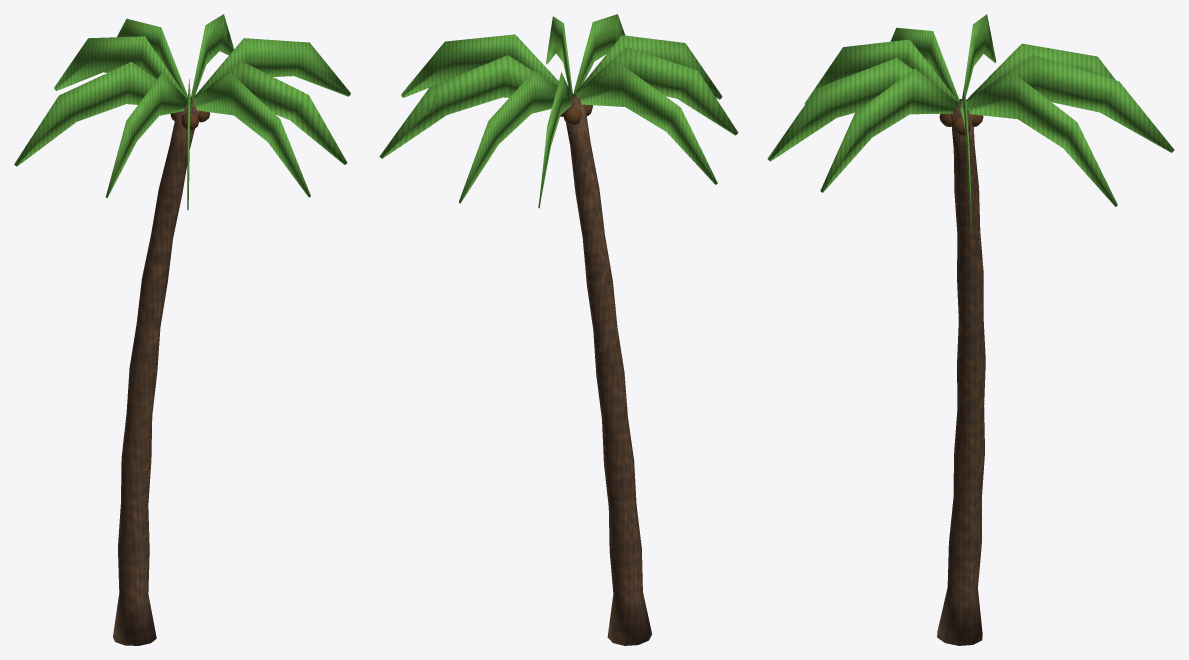
The model's file is Tree_Palm_Tall.fbx.
The picture shows the model from 3 angles, left to right: view 1: azimuth 30°, elevation 25°; view 2: azimuth 150°, elevation 25°; view 3: azimuth 270°, elevation 25°; orthographic projection. The views are drawn at different scales.
Parts seen in each view (by area): view 1: Tree_Palm_Tall.001; view 2: Tree_Palm_Tall.001; view 3: Tree_Palm_Tall.001.
Part boxes in pixels (x1,y1,x2,y2): Tree_Palm_Tall.001: [14, 14, 350, 645]; Tree_Palm_Tall.001: [379, 14, 738, 645]; Tree_Palm_Tall.001: [767, 14, 1174, 645].
Size of the model in its own units: 5.23 by 8.79 by 5.28.
